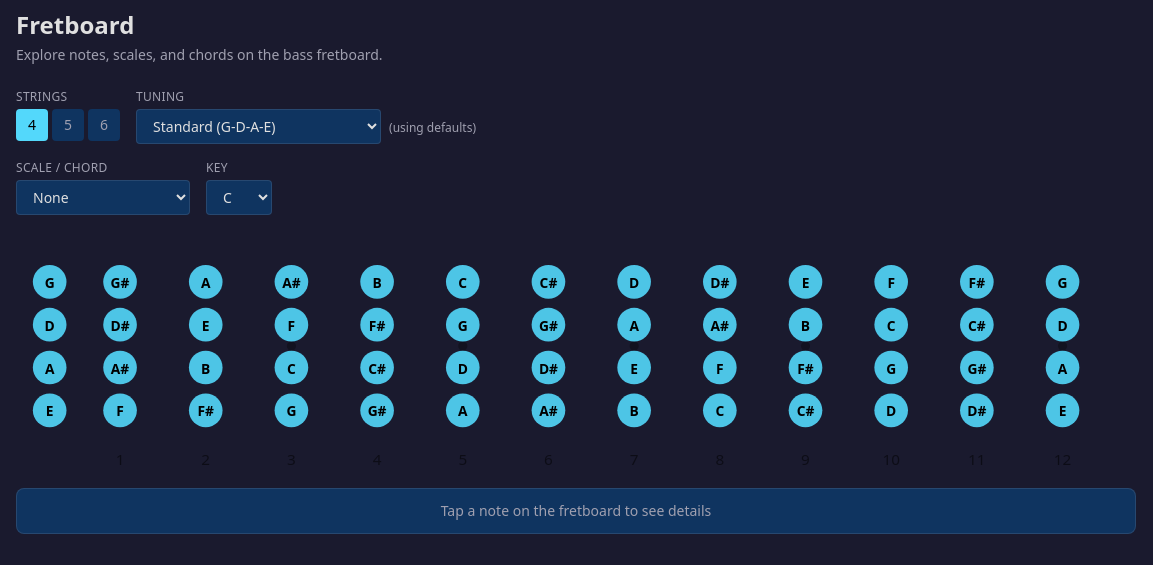
Tuning configurator › selecting Custom shows per-string note dropdowns
Select "Custom" in the dropdown with test id "tuning-preset-select" at (258, 126), box [136,109,381,144]
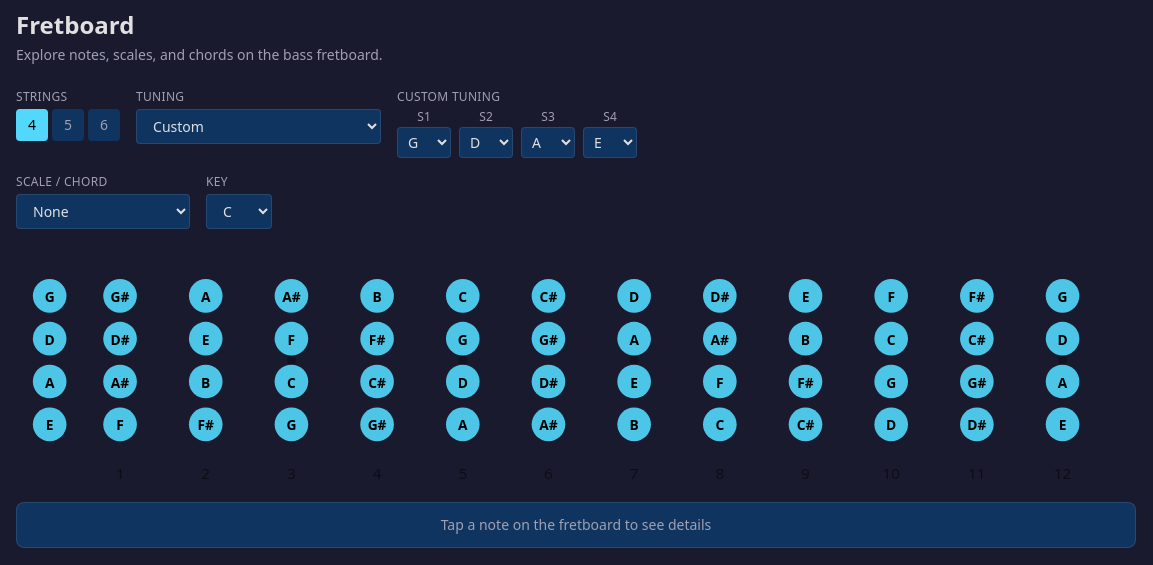
expect the element with test id "custom-tuning-controls" is shown: met, box [397,89,637,158]
expect the dropdown with test id "custom-note-0" is shown: met, box [397,127,451,158]
expect the dropdown with test id "custom-note-1" is shown: met, box [459,127,513,158]
